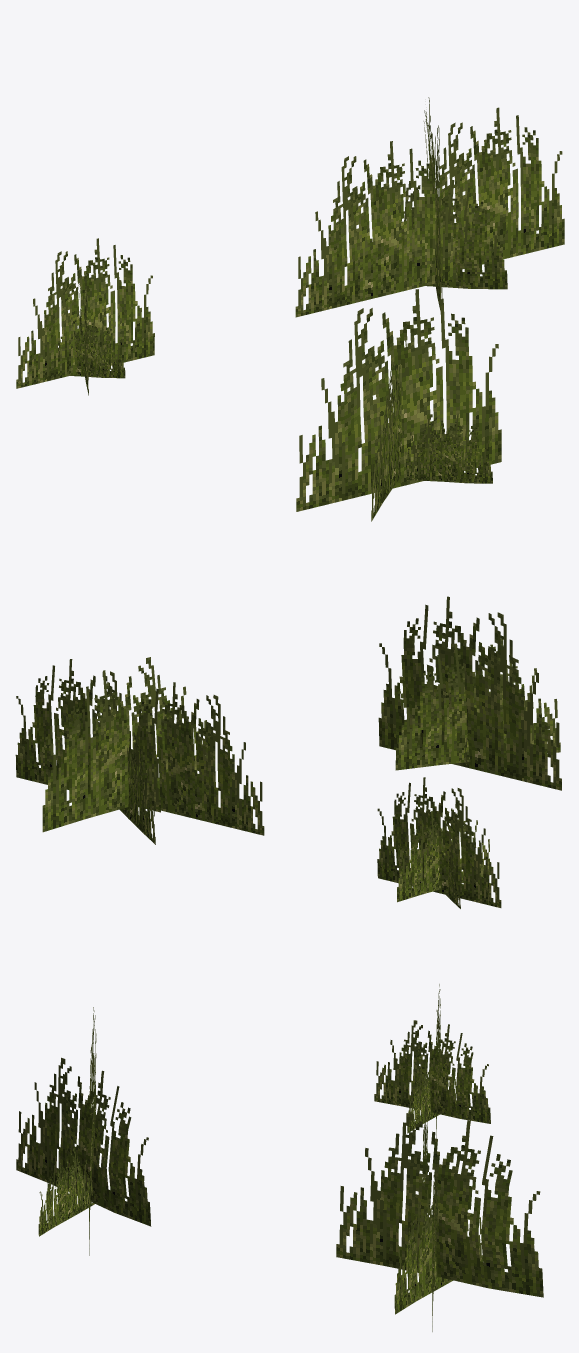
The model's file is Grass.fbx.
3 views of the same model, one above another, from view 1: azimuth 30°, elevation 25°; view 2: azimuth 150°, elevation 25°; view 3: azimuth 270°, elevation 25° (orthographic). The views are drawn at different scales.
Visible parts, largest first — view 1: Plane.008, Plane.004, Plane; view 2: Plane.008, Plane.004, Plane; view 3: Plane.008, Plane.004, Plane.
Boxes of the visible parts, <box> form: Plane.008: <box>295,97,564,317</box>; Plane.004: <box>296,289,501,521</box>; Plane: <box>16,238,154,395</box>; Plane.008: <box>15,657,264,844</box>; Plane.004: <box>378,596,561,790</box>; Plane: <box>377,777,501,908</box>; Plane.008: <box>336,1089,543,1331</box>; Plane.004: <box>16,1007,151,1255</box>; Plane: <box>374,984,490,1138</box>.
Bounding box in the file's own units: 198 × 96.55 × 227.
Materials: 1 (1 with a texture image).
